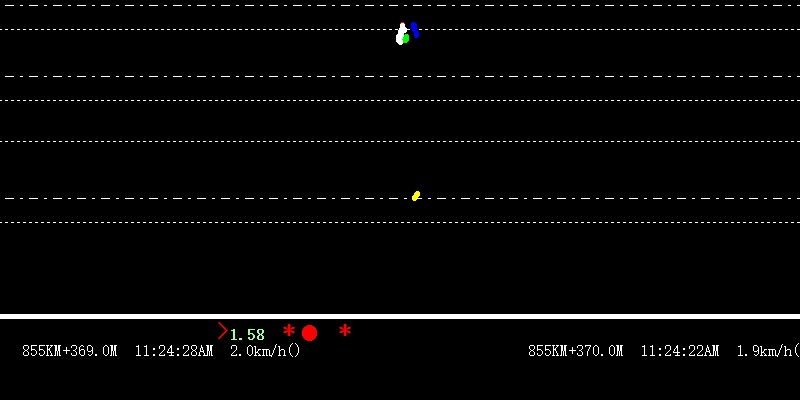circle: (300, 325, 318, 341)
face_1: (409, 21, 424, 39)
face_s: (394, 21, 405, 46)
star: (280, 320, 296, 339), (336, 322, 351, 336)
